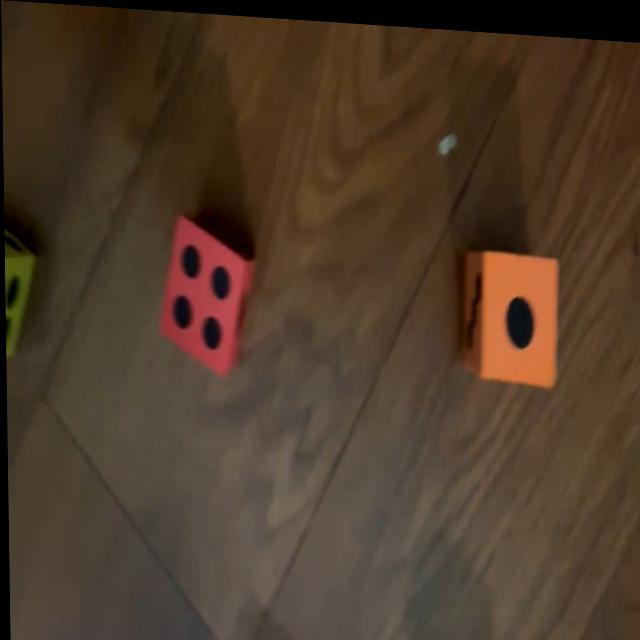red_block: (158, 209, 255, 376)
